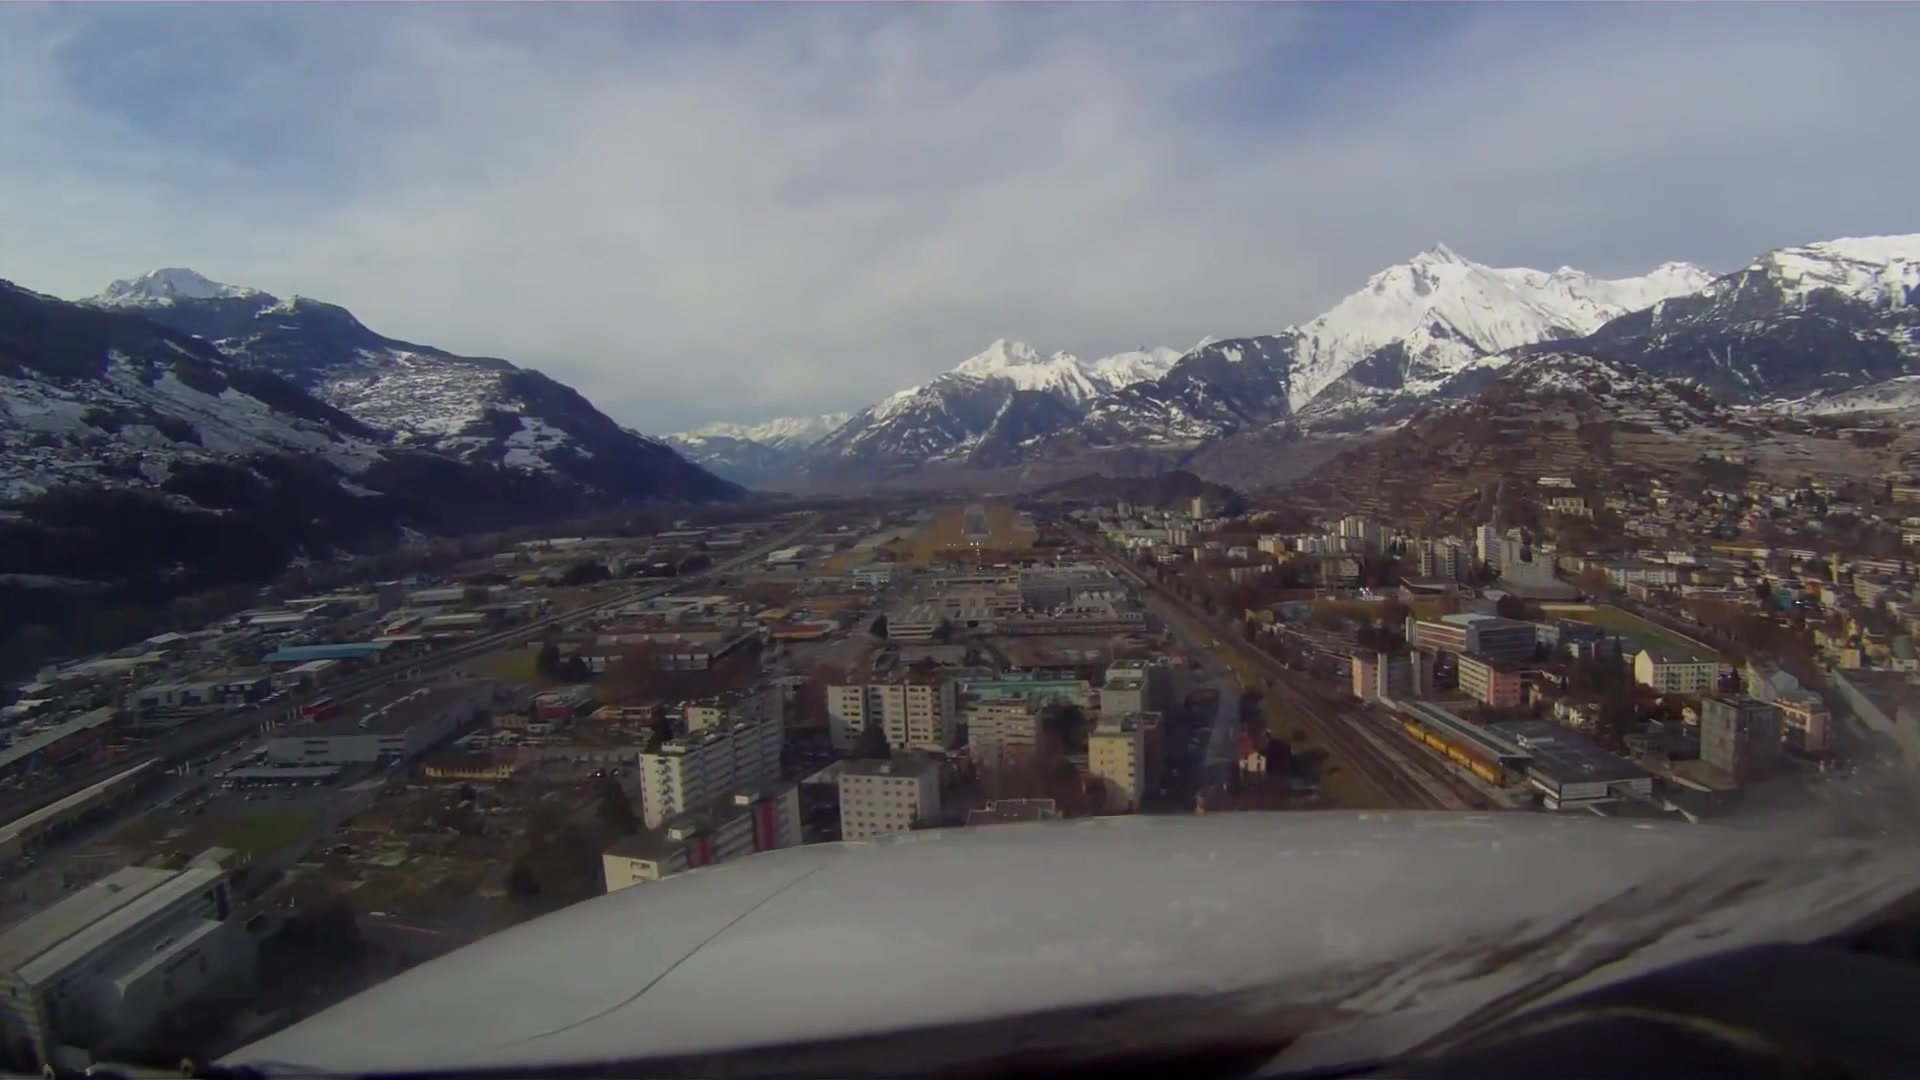runway: (957, 502, 993, 542)
